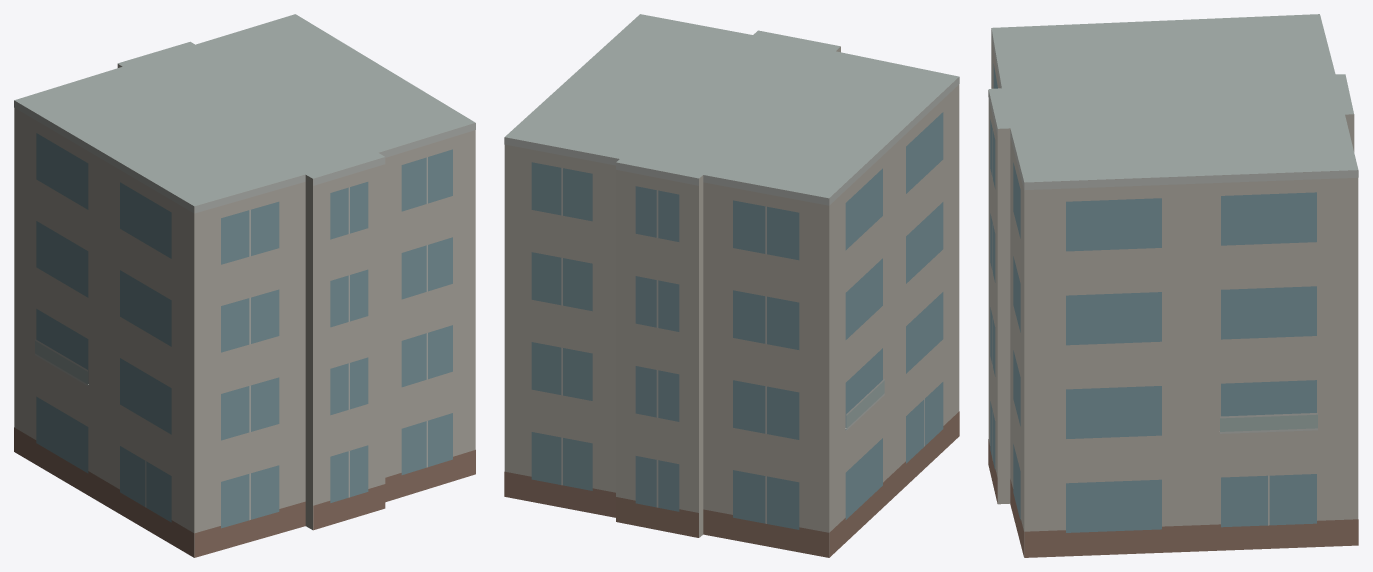
The model's file is survey-upis-33013398.glb.
3 views of the same model, side by side, from view 1: azimuth 30°, elevation 25°; view 2: azimuth 150°, elevation 25°; view 3: azimuth 270°, elevation 25° (orthographic). The views are drawn at different scales.
Visible parts, largest first — view 1: survey-upis-33013398.tmp; view 2: survey-upis-33013398.tmp; view 3: survey-upis-33013398.tmp.
Boxes of the visible parts, left/top/right/bottom form: survey-upis-33013398.tmp: left=14, top=14, right=475, bottom=557; survey-upis-33013398.tmp: left=504, top=14, right=959, bottom=557; survey-upis-33013398.tmp: left=988, top=14, right=1358, bottom=557.
Size of the model in its own units: 11.46 by 11.9 by 10.64.
